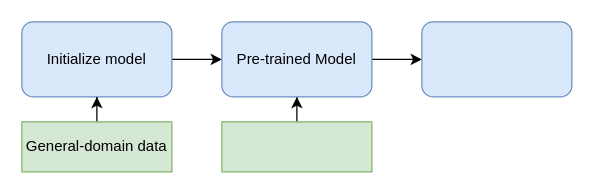
This 594x194 diagram has some shape labels left out. The shapes that lost their labels are listed below. From the top down, each one's centre as x and y in pixels, then its label:
At pixel 496 59: "Finetuned Model".
At pixel 296 146: "In-domain data".
